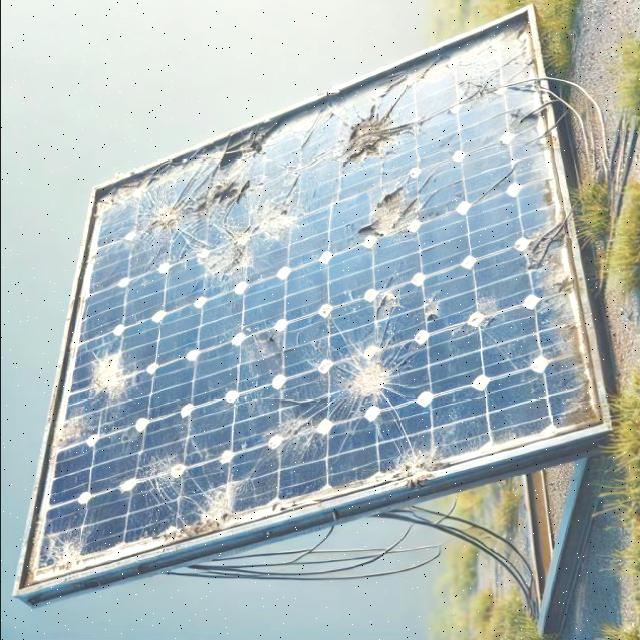Anomaly Solar Panel: (21, 11, 602, 592)
Structural Damage: (178, 442, 274, 530), (328, 81, 422, 169), (125, 443, 212, 527), (252, 403, 330, 465), (358, 186, 428, 243), (194, 228, 252, 284), (382, 439, 438, 489), (368, 284, 410, 350), (198, 142, 260, 186), (342, 350, 392, 400), (90, 348, 134, 402), (140, 200, 186, 248), (244, 322, 290, 369), (250, 197, 298, 240), (42, 529, 84, 575)
